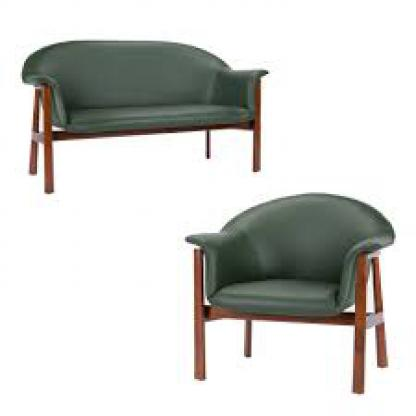sofa: (11, 28, 266, 181)
